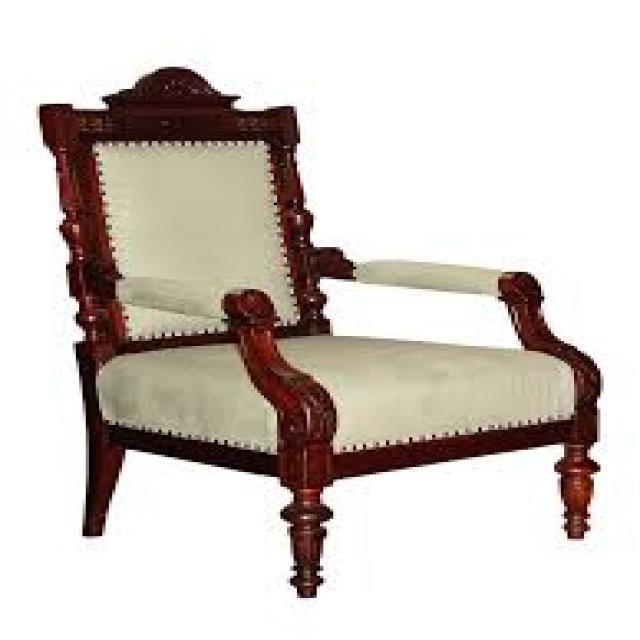chair: (35, 66, 603, 598)
